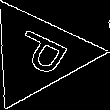P_SE: (3, 26, 73, 82)
